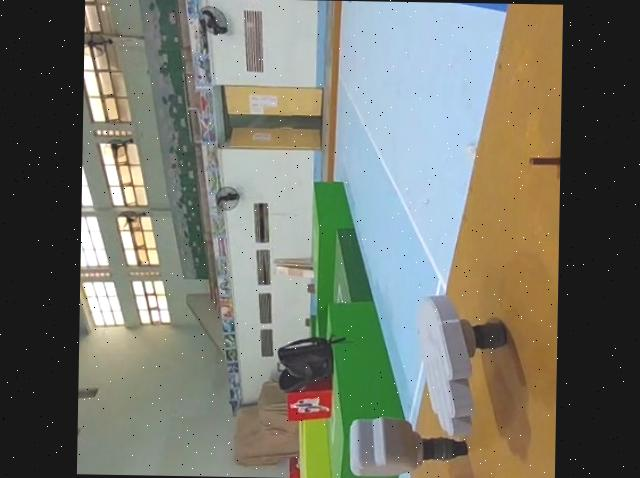Fist: (347, 415, 470, 478)
Hand: (415, 294, 516, 441)
